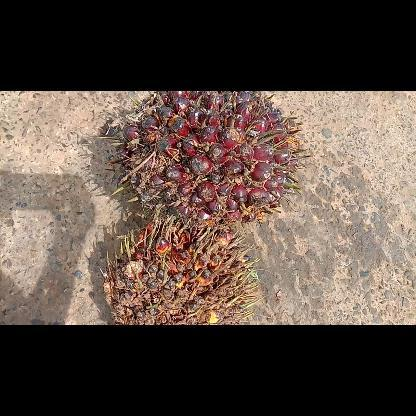Kurang masak: (96, 91, 310, 237)
TBS abnormal: (98, 214, 264, 324)
